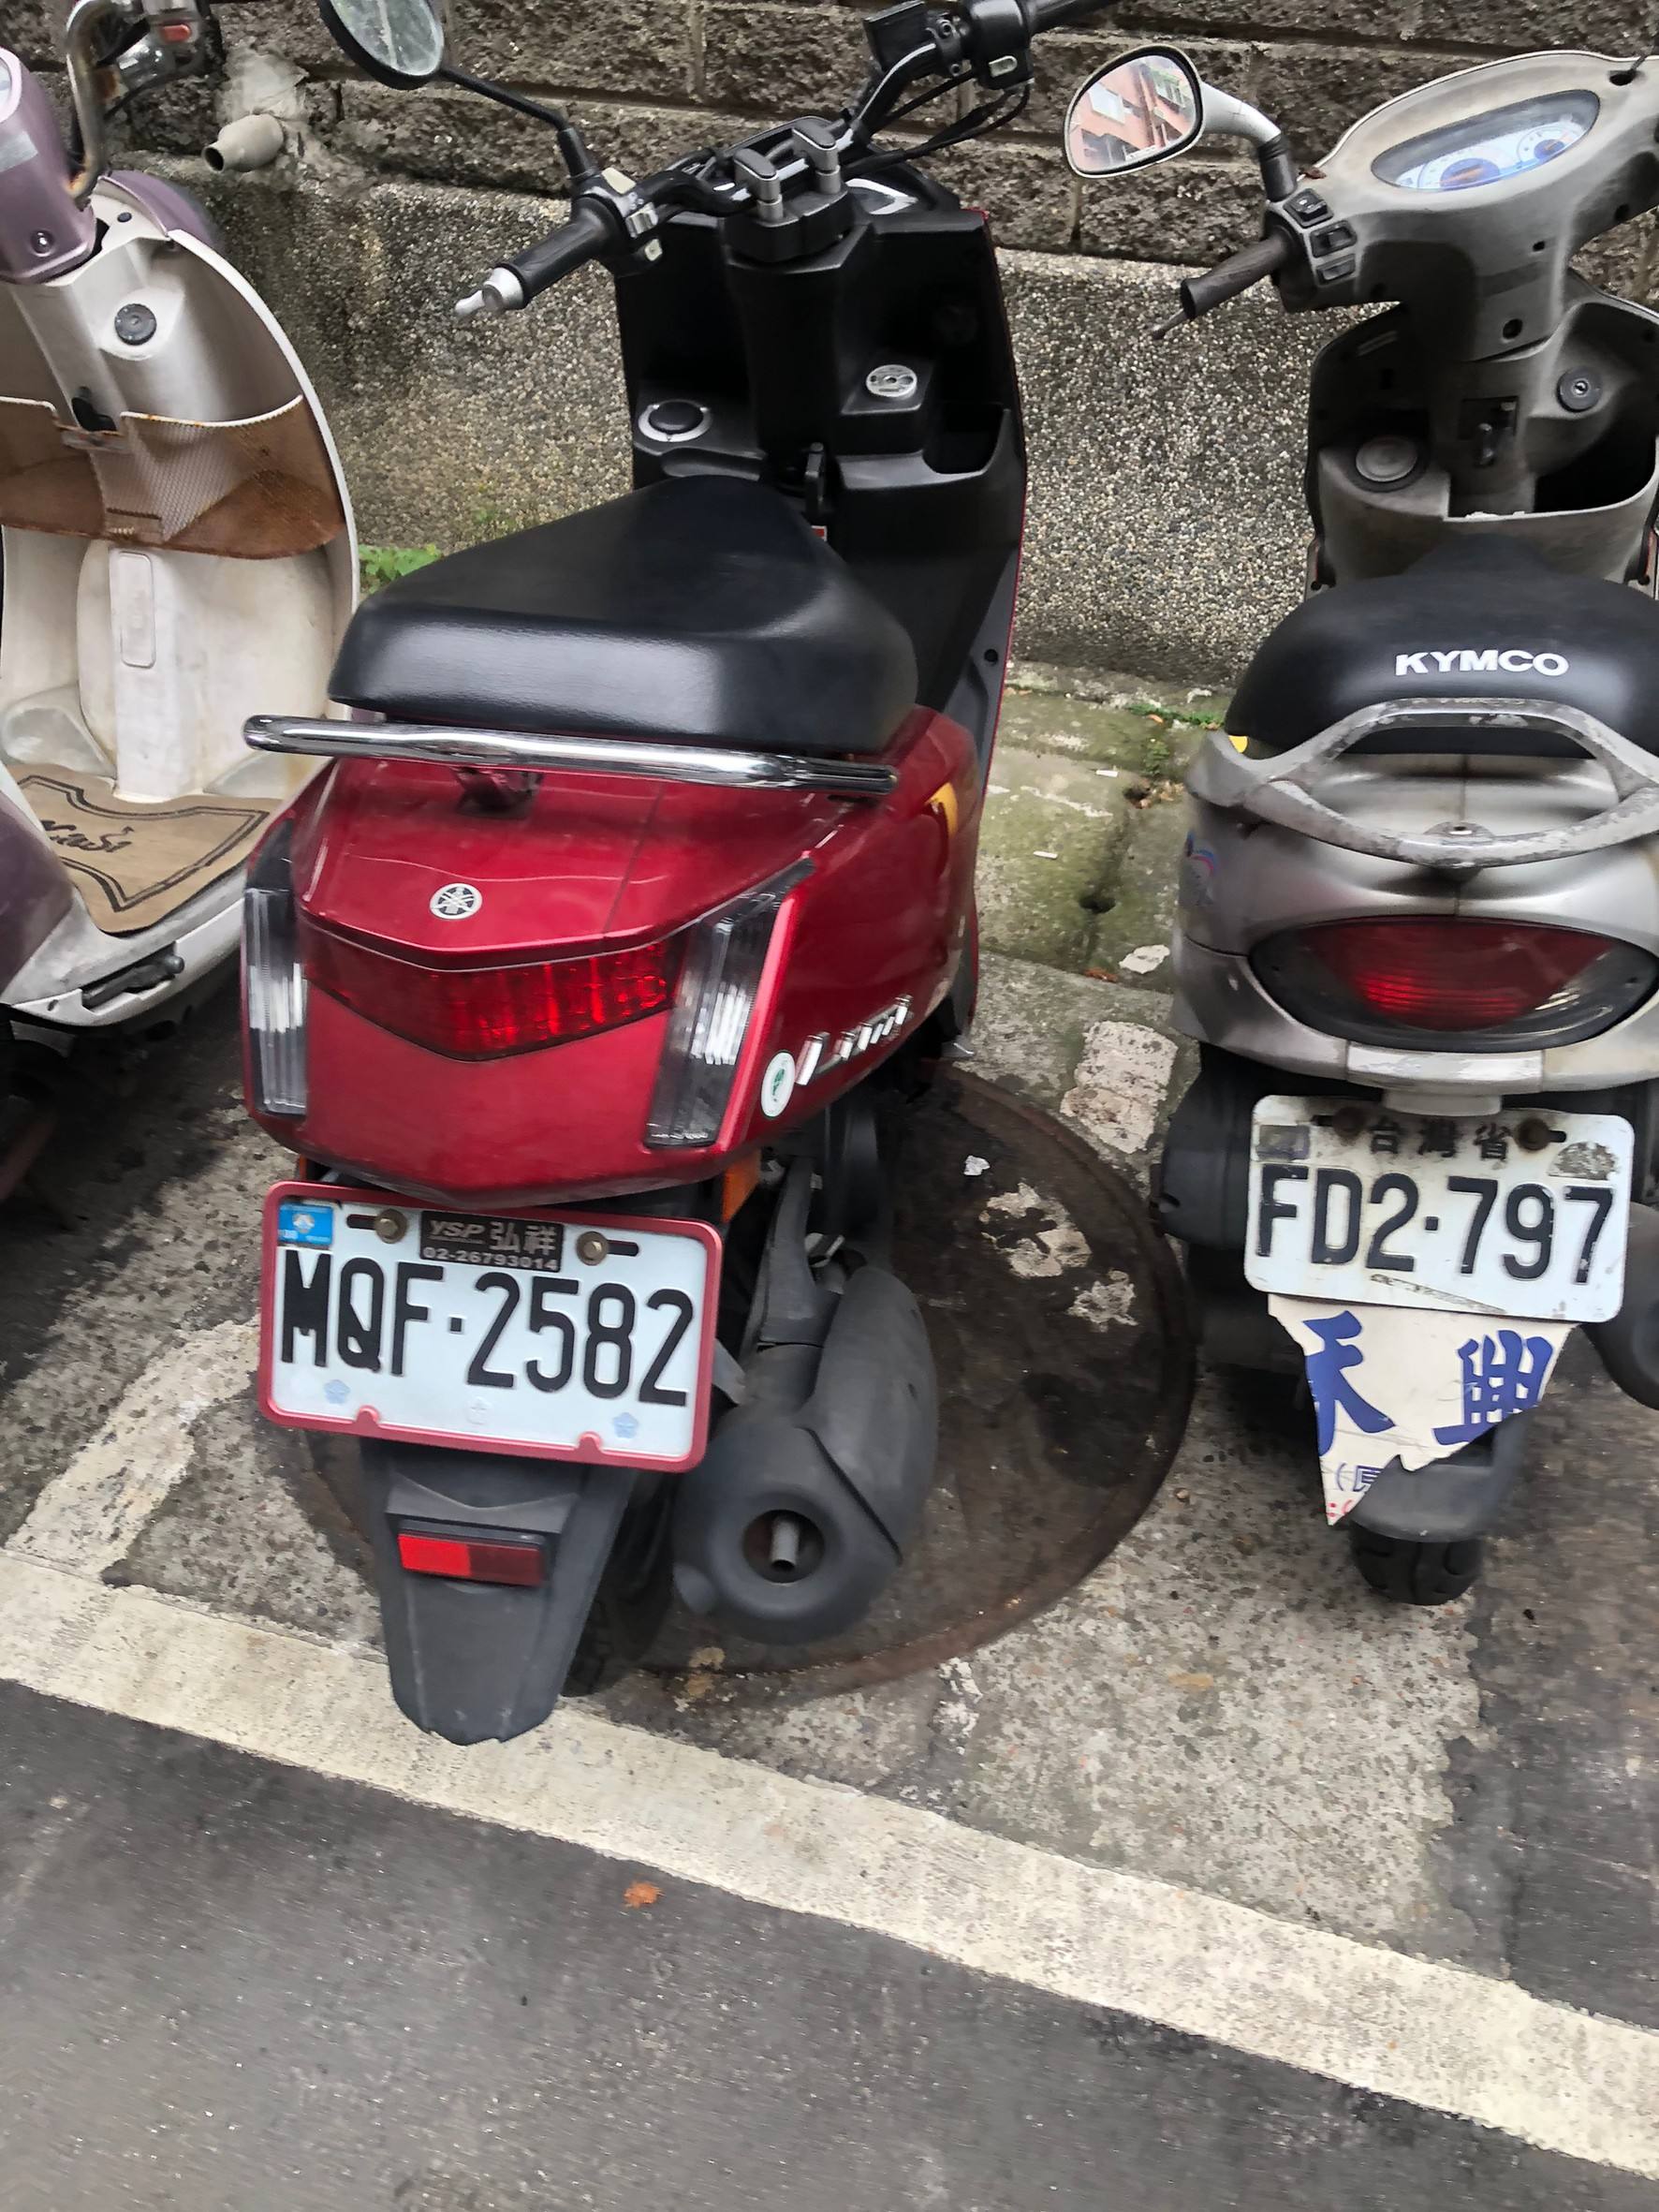LP: (260, 1204, 714, 1449), (1230, 1088, 1640, 1325)
